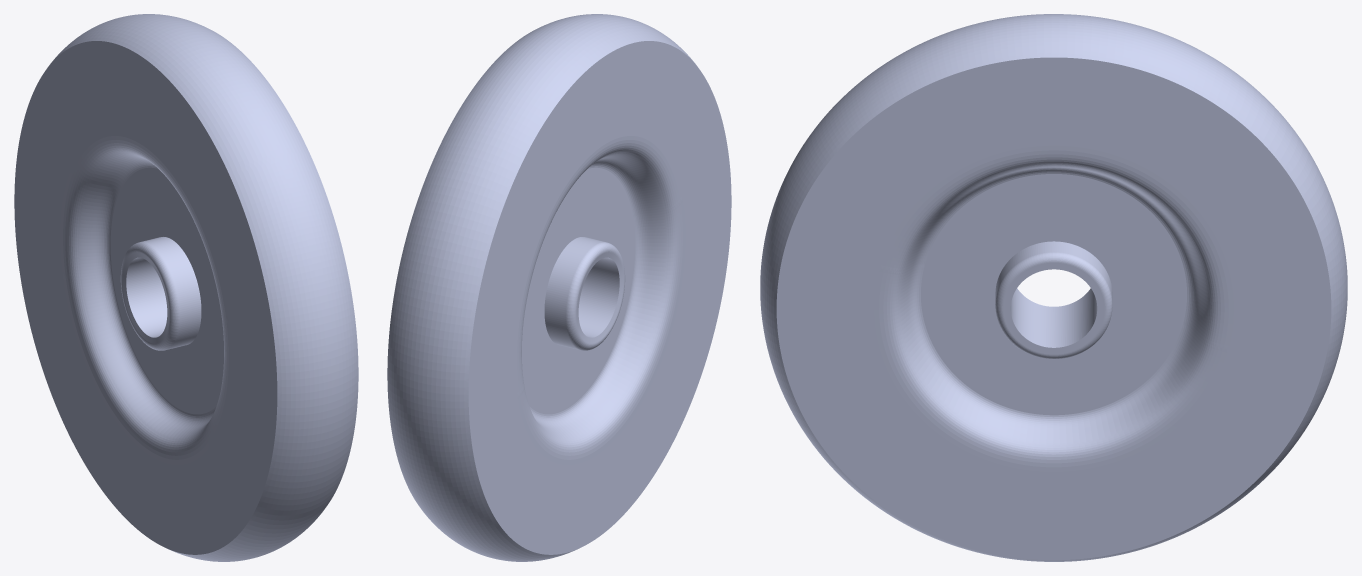
The model's file is rueda.dae.
3 renders of one model, left to right at view 1: azimuth 30°, elevation 25°; view 2: azimuth 150°, elevation 25°; view 3: azimuth 270°, elevation 25°, orthographic. The views are drawn at different scales.
Parts seen in each view (by area): view 1: 5eb6d5608e15270ff01165b2; view 2: 5eb6d5608e15270ff01165b2; view 3: 5eb6d5608e15270ff01165b2.
Part boxes in pixels (x1=…): 5eb6d5608e15270ff01165b2: x1=14, y1=14, x2=358, y2=561; 5eb6d5608e15270ff01165b2: x1=387, y1=14, x2=731, y2=561; 5eb6d5608e15270ff01165b2: x1=760, y1=14, x2=1347, y2=561.
Size of the model in its own units: 0.0509 by 0.3018 by 0.3018.
